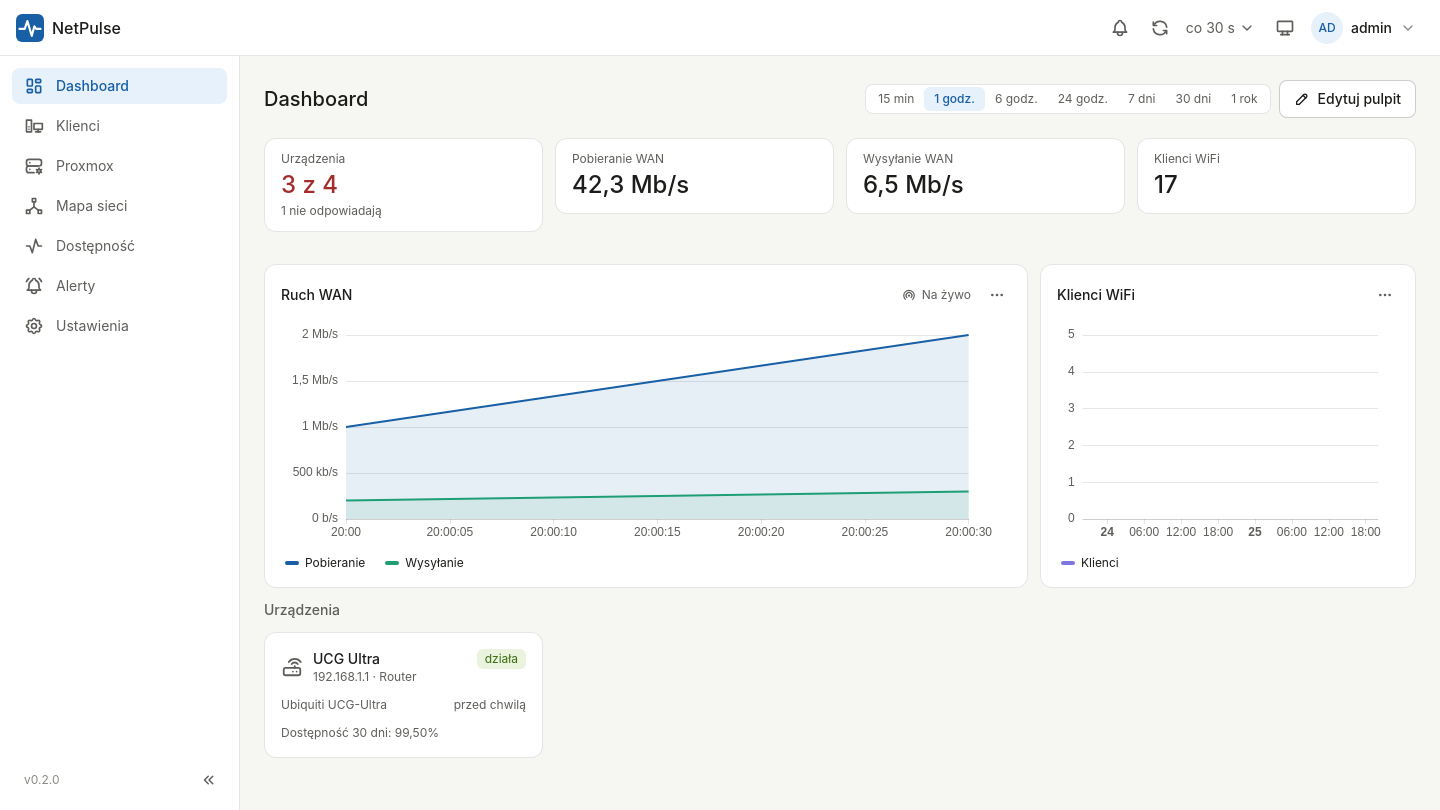
Test: panel po zalogowaniu › menu konta ma ustawienia konta i wylogowanie
The width and height of the screenshot is (1440, 810).
Click the button with aria-label "Menu konta" at (1366, 28), box [1307,8,1424,48]
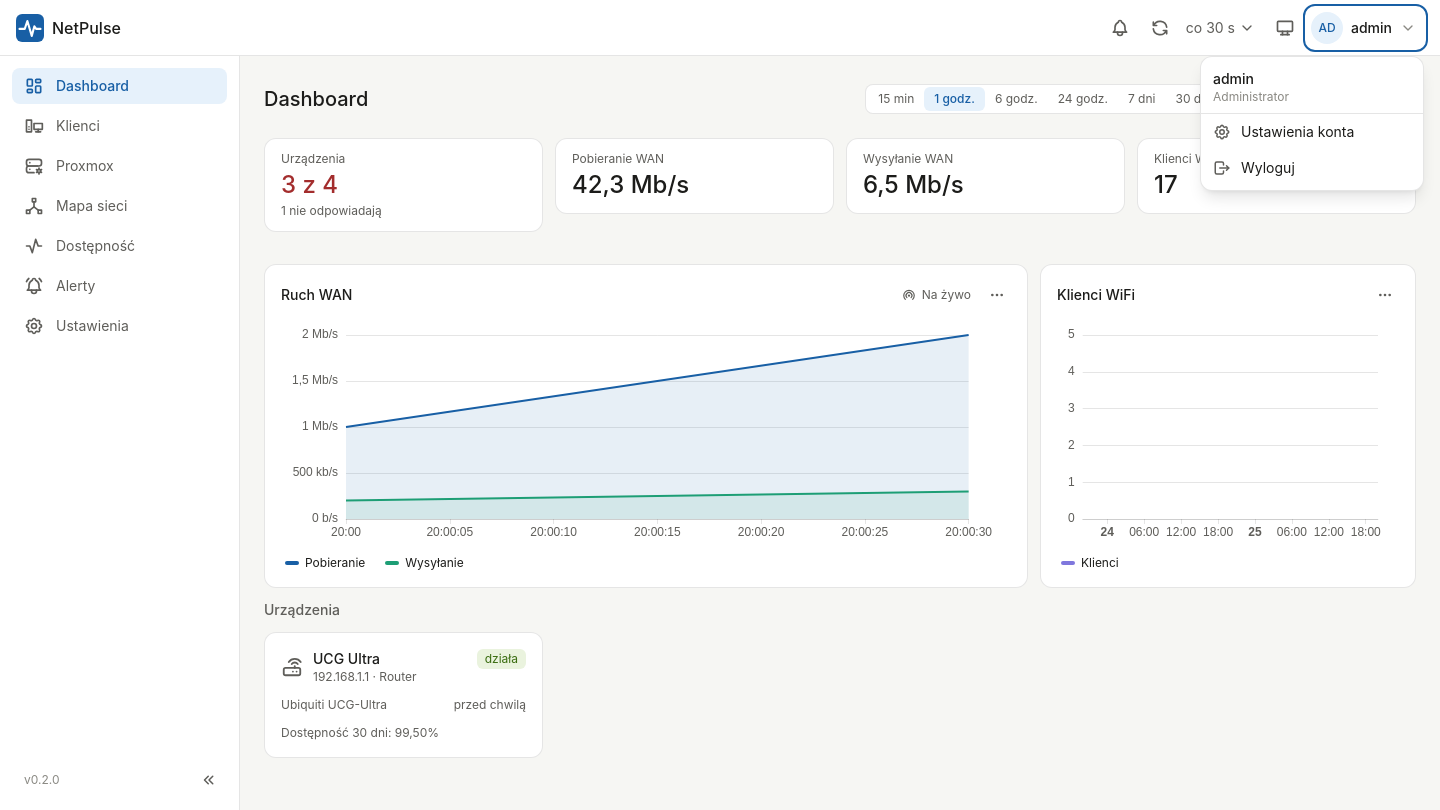
Click the menu item "Wyloguj" at (1312, 168), box [1201,150,1423,186]
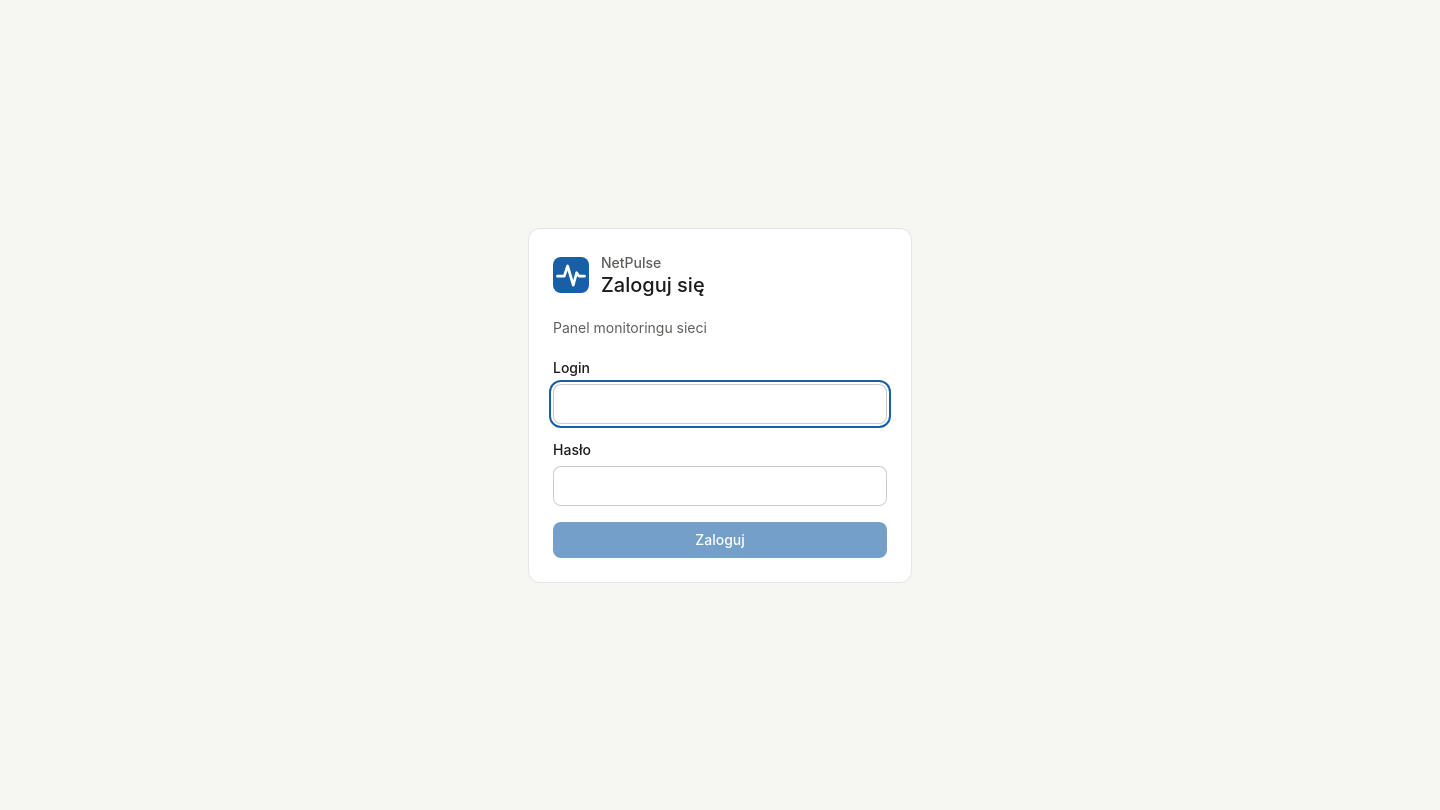
Now the heading "Zaloguj się" is shown, box [601,272,705,298]
